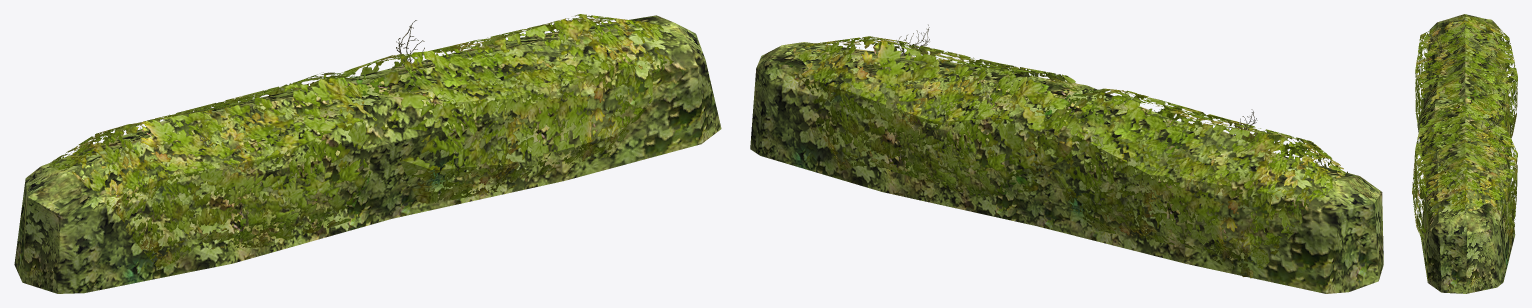
File: Maple_Low.dae
The picture shows the model from 3 angles, left to right: view 1: azimuth 30°, elevation 25°; view 2: azimuth 150°, elevation 25°; view 3: azimuth 270°, elevation 25°; orthographic projection. The views are drawn at different scales.
Visible parts, largest first — view 1: mapleLow; view 2: mapleLow; view 3: mapleLow.
Part boxes in pixels (bbox=[...]): mapleLow: bbox=[14, 14, 721, 293]; mapleLow: bbox=[750, 24, 1383, 293]; mapleLow: bbox=[1412, 14, 1517, 293].
Size of the model in its own units: 4.89 by 1.01 by 0.9742.
Materials: 1 (1 with a texture image).
